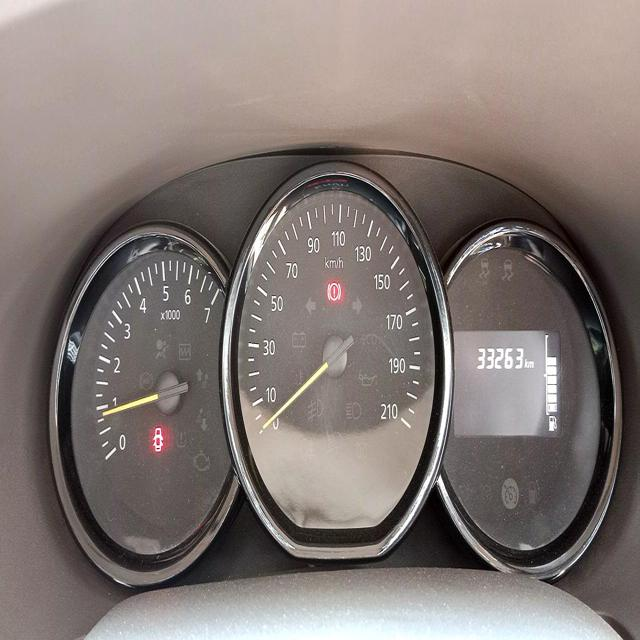odometer: (473, 339, 525, 374)
